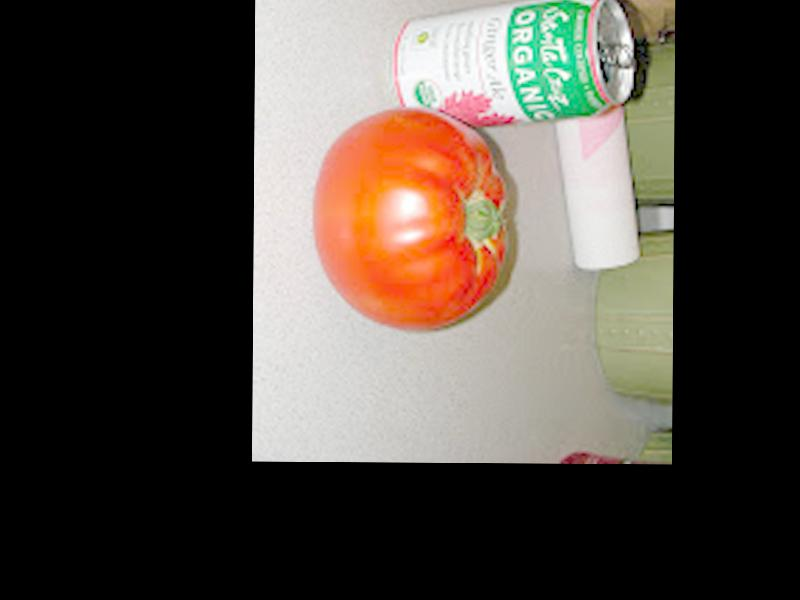Tomato: (314, 109, 506, 329)
